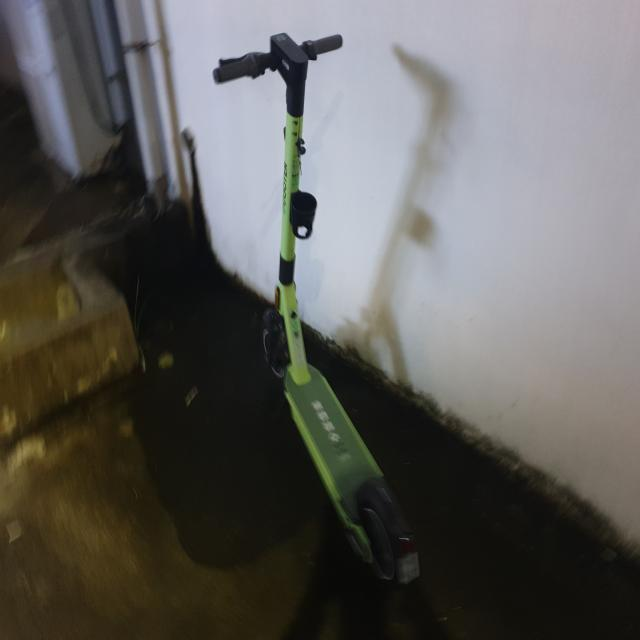bike: (208, 32, 424, 590)
